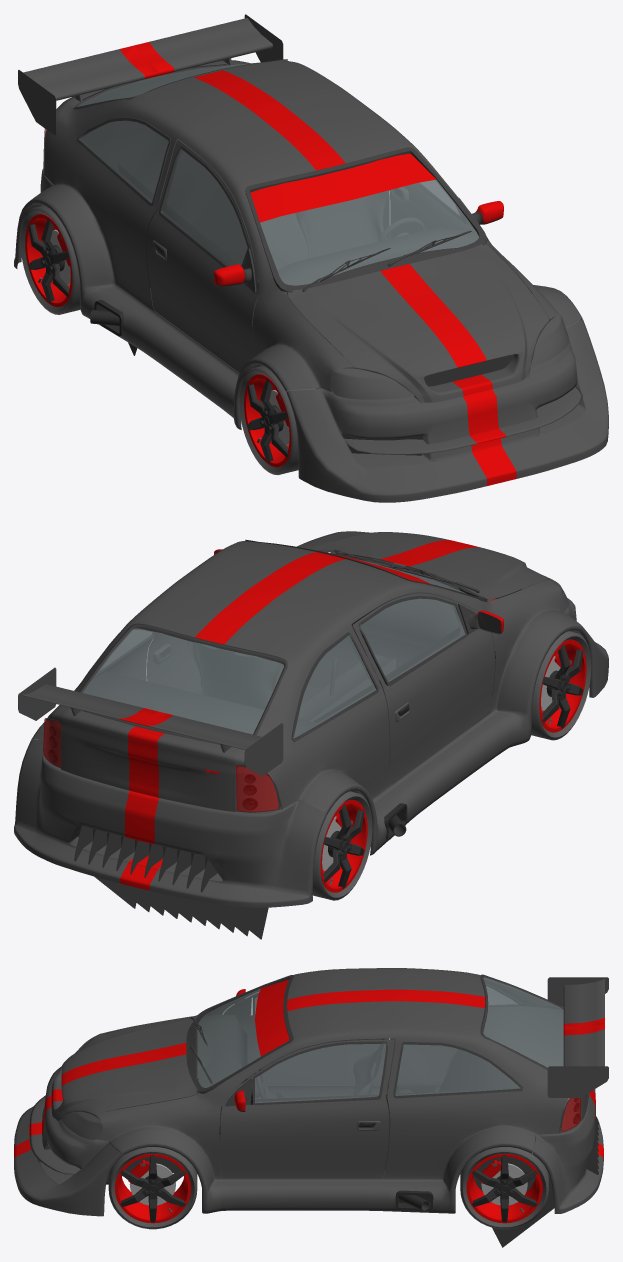
The model's file is caraaa.FBX.
3 views of the same model, one above another, from view 1: azimuth 30°, elevation 25°; view 2: azimuth 150°, elevation 25°; view 3: azimuth 270°, elevation 25° (orthographic). The views are drawn at different scales.
Visible parts, largest first — view 1: AstraRacing, Glass, Plane13, Gum, chair, Plane05, FrontLight, Aro03, Aro02, Tyre02, Tyre03, Plane08 (+2 smaller); view 2: AstraRacing, Glass, Difusor, Plane05, Gum, Plane13, chair, Aro03, Aro02, Chassis, Tyre03, Tyre02 (+4 smaller); view 3: AstraRacing, Glass, Plane13, Gum, Aro, Aro01, Plane05, Tyre, Tyre01, Difusor, chair, Chassis (+7 smaller).
Boxes of the visible parts, x1,y1,x2,y2 form: AstraRacing: (14, 14, 608, 502); Glass: (78, 62, 478, 285); Plane13: (82, 69, 307, 295); Gum: (73, 59, 487, 294); chair: (295, 190, 388, 258); Plane05: (252, 228, 495, 337); FrontLight: (331, 315, 569, 399); Aro03: (25, 214, 72, 306); Aro02: (244, 374, 291, 467); Tyre02: (239, 366, 315, 474); Tyre03: (20, 205, 99, 314); Plane08: (424, 354, 513, 386); AstraRacing: (14, 531, 608, 907); Glass: (83, 548, 466, 738); Difusor: (74, 826, 268, 939); Plane05: (277, 585, 495, 725); Gum: (79, 539, 487, 744); Plane13: (84, 671, 316, 736); chair: (187, 641, 307, 709); Aro03: (320, 800, 367, 892); Aro02: (539, 639, 586, 732); Chassis: (275, 632, 495, 805); Tyre03: (298, 791, 372, 900); Tyre02: (531, 631, 591, 740); AstraRacing: (14, 968, 608, 1216); Glass: (197, 977, 563, 1103); Plane13: (439, 1006, 563, 1091); Gum: (186, 974, 563, 1105); Aro: (115, 1154, 191, 1223); Aro01: (466, 1153, 542, 1223); Plane05: (194, 1015, 247, 1178); Tyre: (108, 1147, 197, 1229); Tyre01: (460, 1141, 548, 1229); Difusor: (473, 1116, 598, 1247); chair: (353, 1038, 385, 1095); Chassis: (100, 1097, 535, 1178).
Size of the model in its own units: 899 by 771 by 1825.
